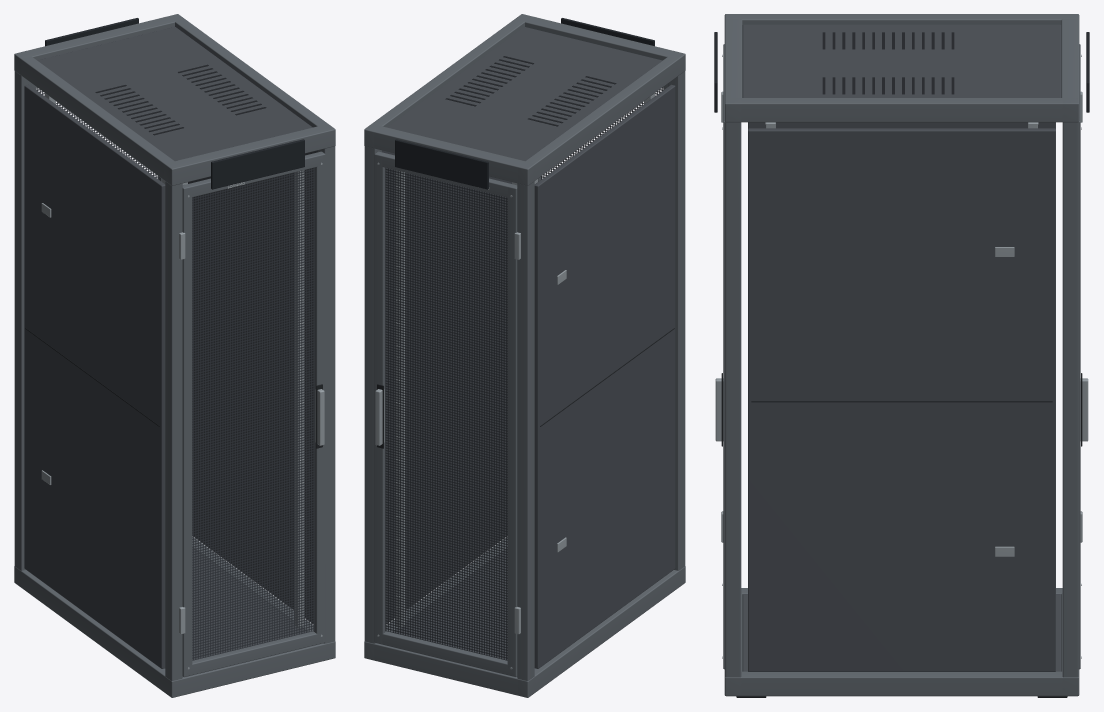
Rendered from rack.glb.
The picture shows the model from 3 angles, left to right: view 1: azimuth 30°, elevation 25°; view 2: azimuth 150°, elevation 25°; view 3: azimuth 270°, elevation 25°; orthographic projection. The views are drawn at different scales.
Parts seen in each view (by area): view 1: Panels_roof_plinth, Rear_perforated_screen, Frame_and_feet, Rear_door_hardware, Rails_U_ticks, RackPlaqueRear, RackPlaqueFront; view 2: Panels_roof_plinth, Front_perforated_screen, Frame_and_feet, Front_door_hardware, Rails_U_ticks, RackPlaqueFront, RackPlaqueRear; view 3: Panels_roof_plinth, Frame_and_feet, Front_door_hardware, Rear_door_hardware.
Boxes of the visible parts, x1,y1,x2,y2 form: Panels_roof_plinth: (24,27,317,668); Rear_perforated_screen: (192,167,314,660); Frame_and_feet: (14,14,335,697); Rear_door_hardware: (179,151,325,676); Rails_U_ticks: (45,93,304,627); RackPlaqueRear: (211,139,304,189); RackPlaqueFront: (45,18,138,46); Panels_roof_plinth: (382,27,675,668); Front_perforated_screen: (385,167,507,660); Frame_and_feet: (364,14,685,697); Front_door_hardware: (374,151,520,676); Rails_U_ticks: (395,93,654,627); RackPlaqueFront: (395,139,488,189); RackPlaqueRear: (561,18,654,46); Panels_roof_plinth: (742,24,1061,671); Frame_and_feet: (724,14,1079,697); Front_door_hardware: (1078,44,1088,669); Rear_door_hardware: (715,44,725,669).
Bounding box in the file's own units: 0.609 × 1.87 × 1.06.
Materials: 7 (1 with a texture image).
